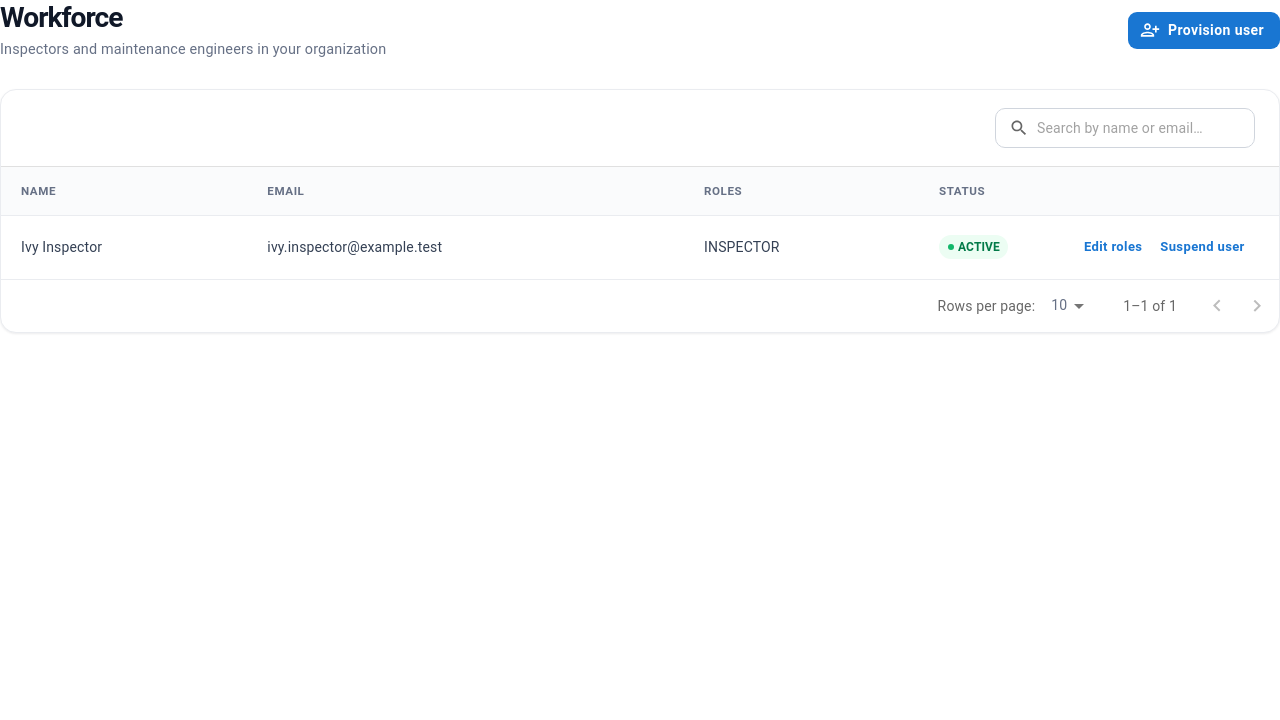
WorkforcePage users tab › will not submit an empty role set
Click the button "Edit roles" at (1113, 247), box [1079,232,1147,263]
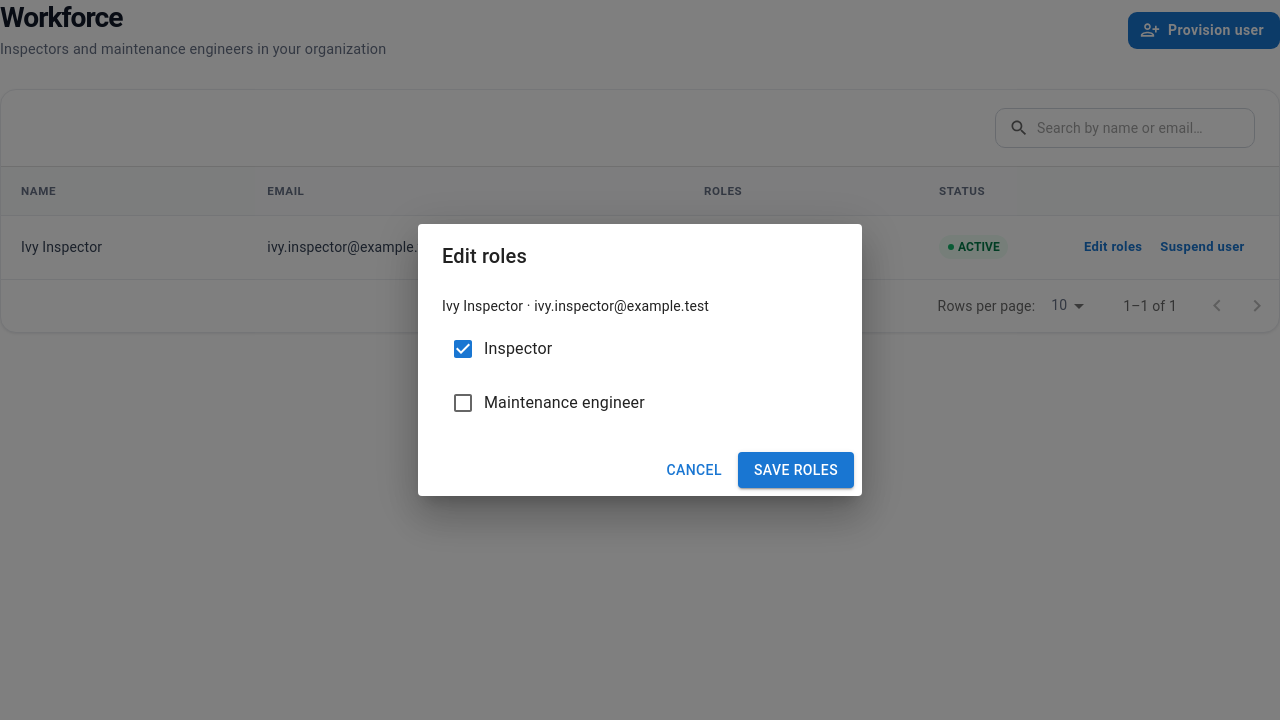
Click the checkbox labelled "Inspector" at (502, 349), box [451,337,552,361]
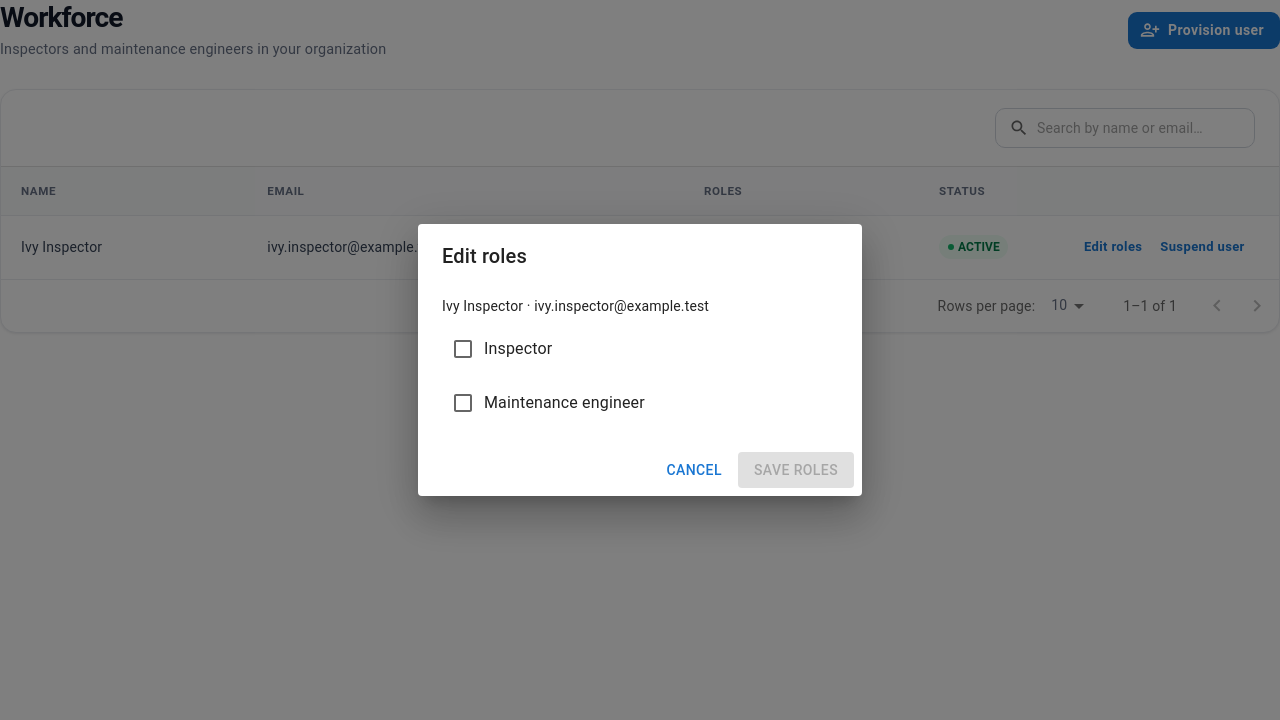
Now the button "Save roles" is disabled, box [738,452,854,488]
